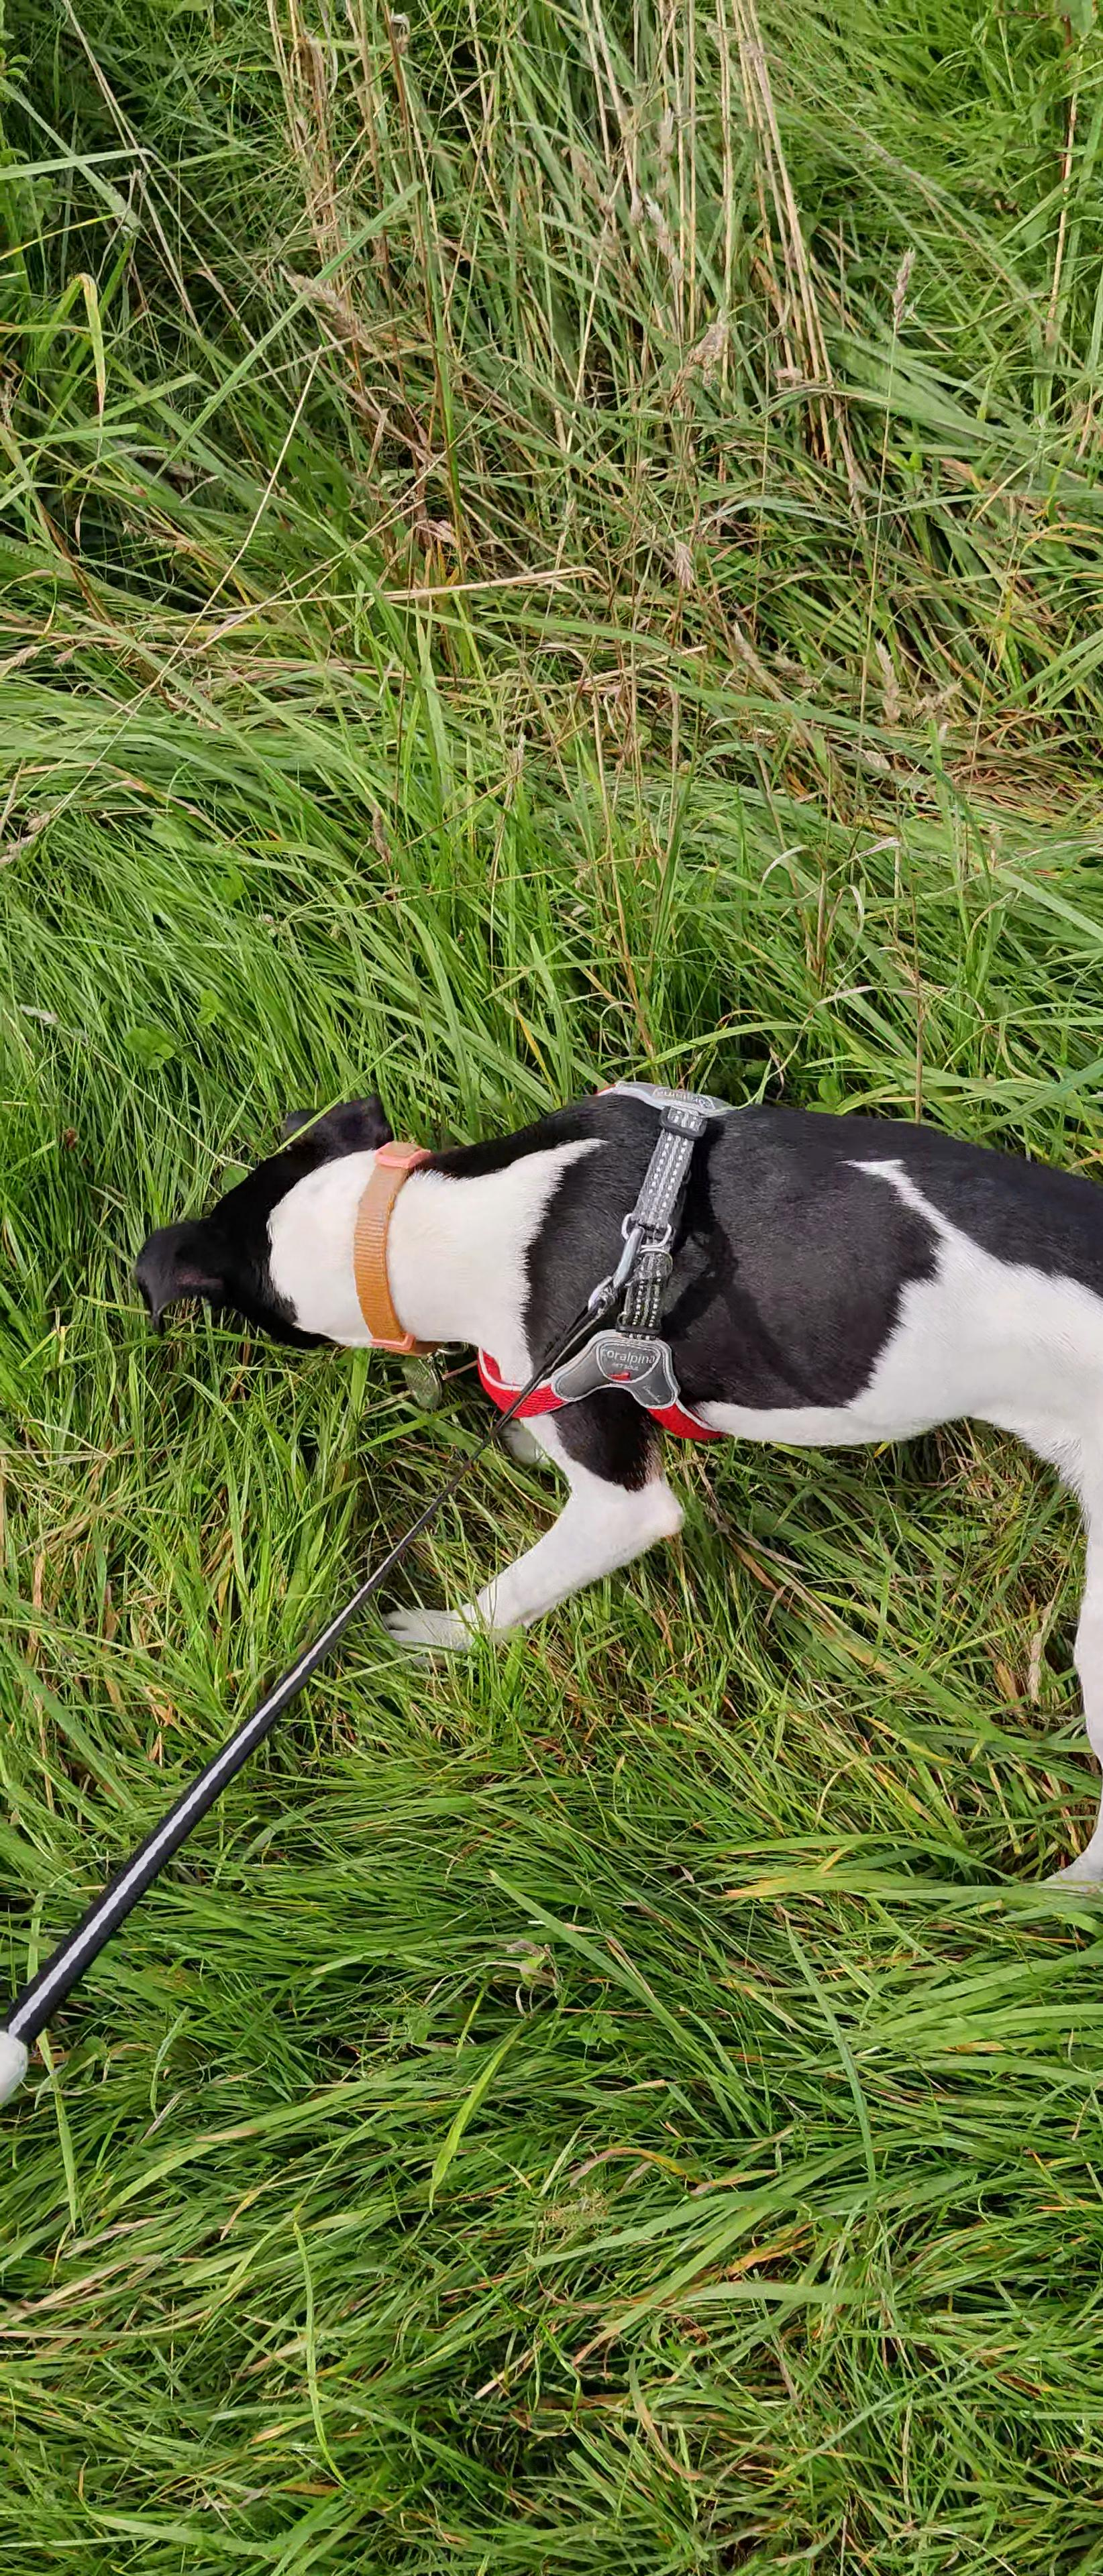Dog: (108, 1040, 1103, 1919)
